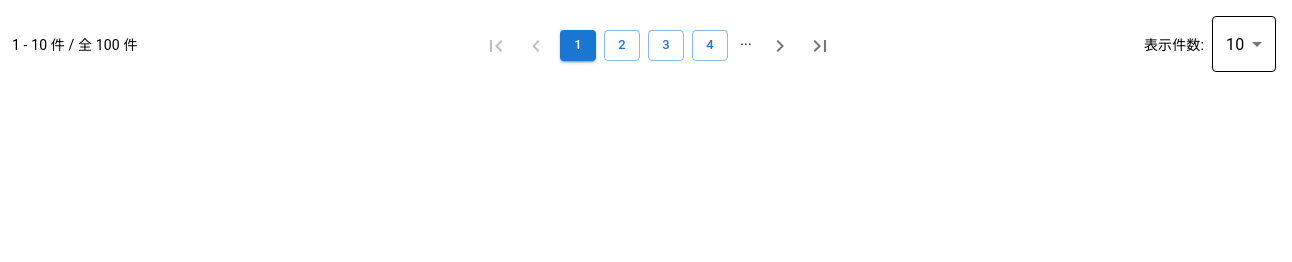
ListViewPagination › カスタム行数オプションが表示されること
The width and height of the screenshot is (1292, 262).
# 表示件数ドロップダウンを開く
Press the mouse on the dropdown at (1235, 44), box x1=1226 y1=34 x2=1244 y2=54
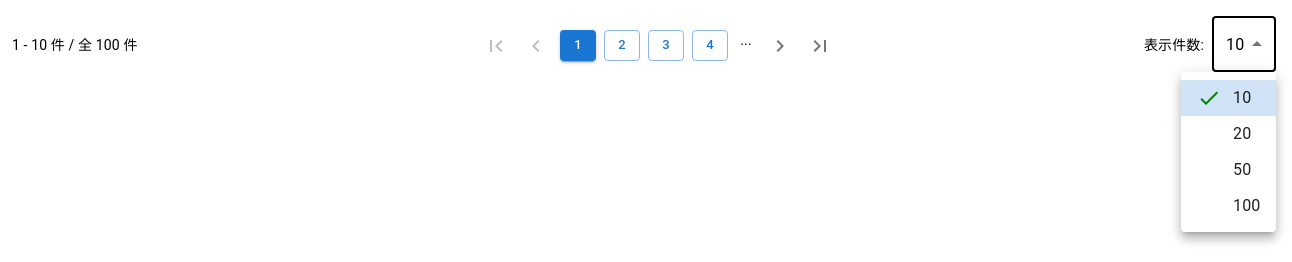
Expected: the number of options is 4, x1=1181 y1=80 x2=1276 y2=116; x1=1197 y1=122 x2=1251 y2=146; x1=1197 y1=158 x2=1251 y2=182; x1=1197 y1=194 x2=1260 y2=218
Expected: the option "10" is shown, x1=1181 y1=80 x2=1276 y2=116
Expected: the option "20" is shown, x1=1197 y1=122 x2=1251 y2=146
